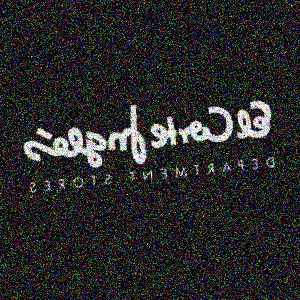corte_ingles: (275, 45, 293, 134)
